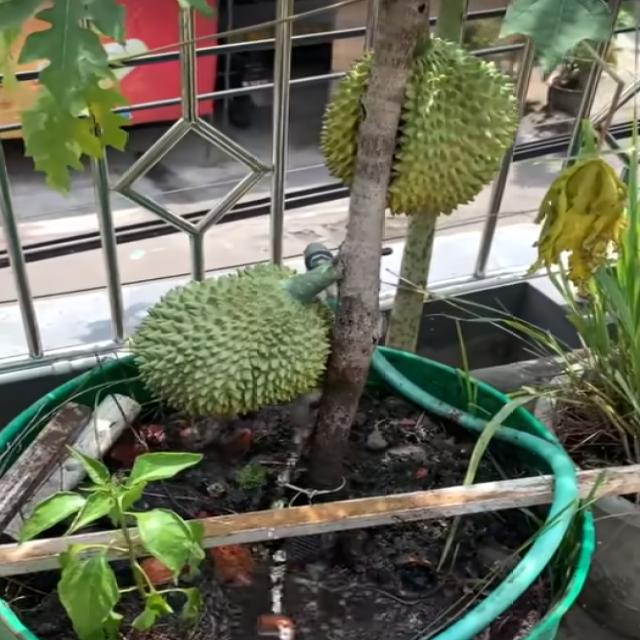immature: (317, 28, 520, 225), (129, 263, 342, 423)
